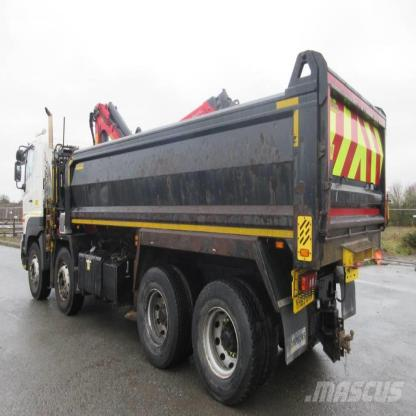dump_truck: (15, 48, 387, 403)
